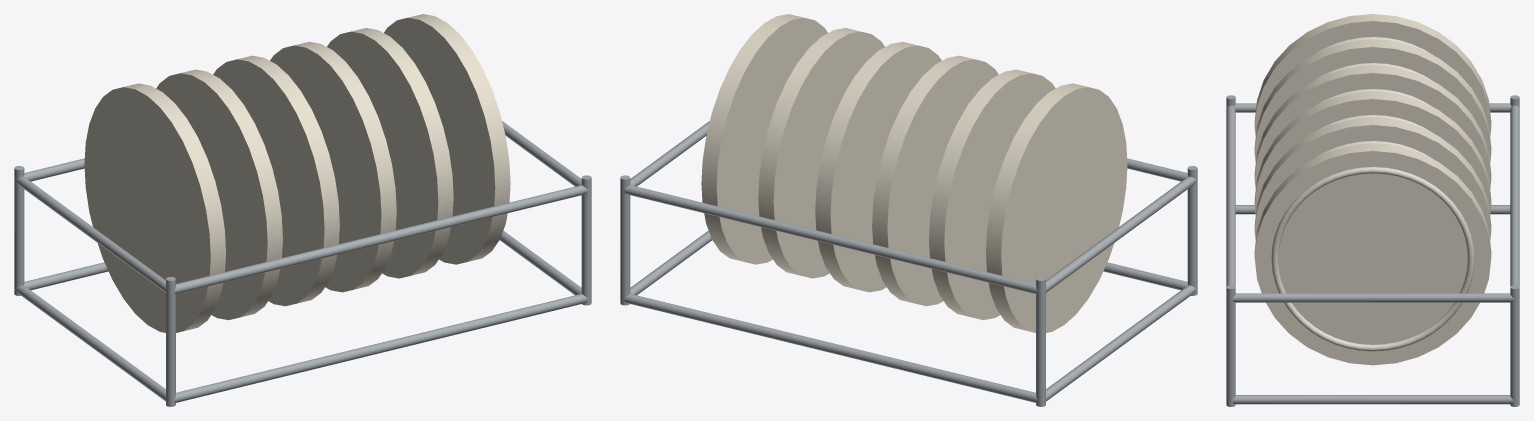
File: officeDishRack.glb
3 renders of one model, left to right at view 1: azimuth 30°, elevation 25°; view 2: azimuth 150°, elevation 25°; view 3: azimuth 270°, elevation 25°, orthographic. The views are drawn at different scales.
Size of the model in its own units: 0.3876 by 0.21 by 0.248.
